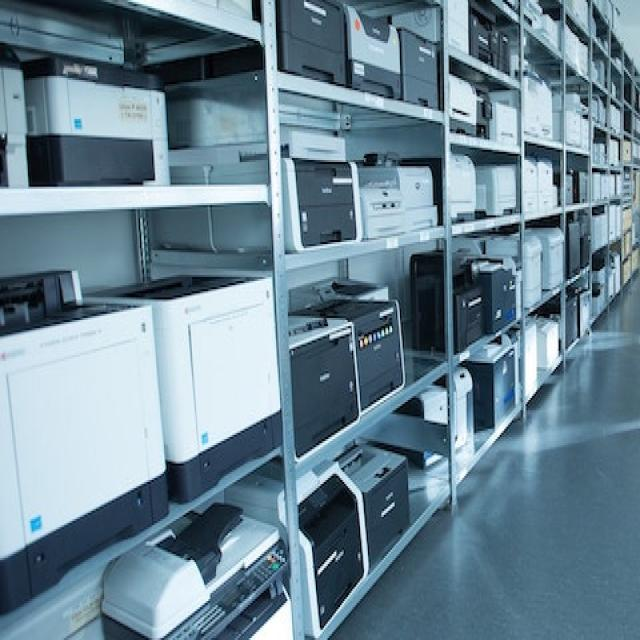printer: (100, 500, 288, 638)
